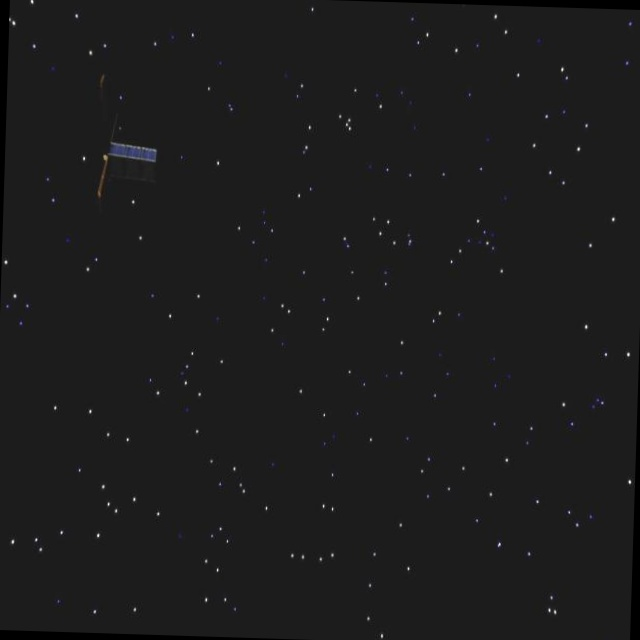satellite: (51, 51, 177, 203)
